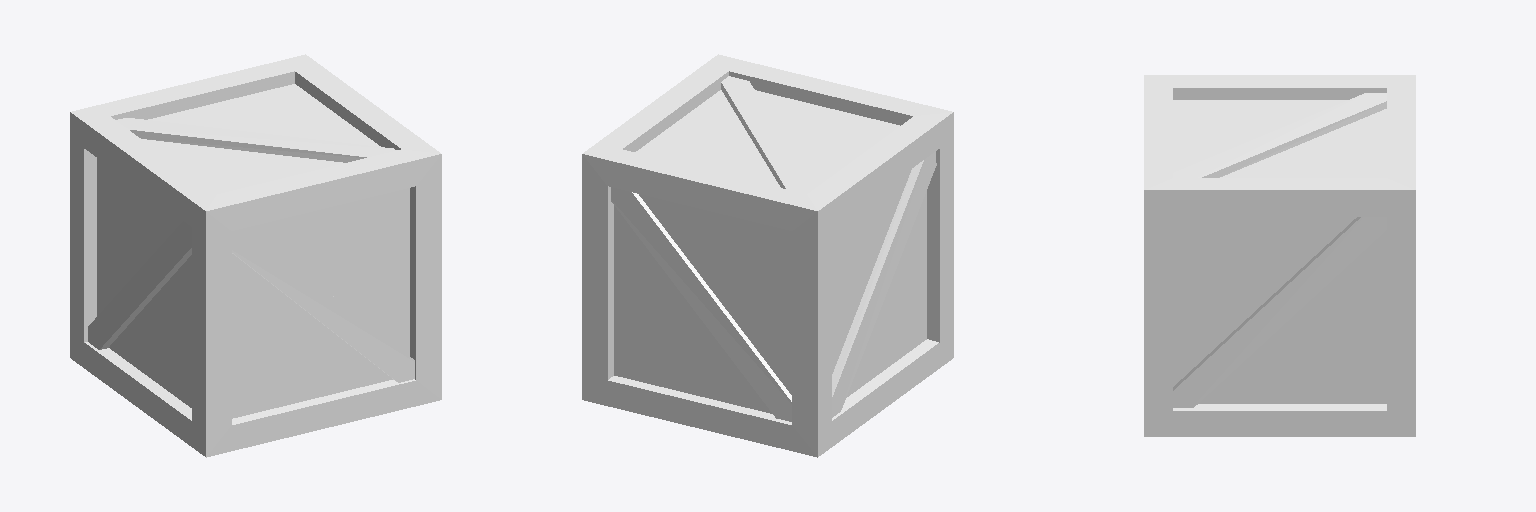
File: deneme.obj
3 views of the same model, side by side, from view 1: azimuth 30°, elevation 25°; view 2: azimuth 150°, elevation 25°; view 3: azimuth 270°, elevation 25° (orthographic).
Parts seen in each view (by area): view 1: wooden_box_obj; view 2: wooden_box_obj; view 3: wooden_box_obj.
Boxes of the visible parts, box(x1,y1,x2,y2) form: wooden_box_obj: box(70, 54, 441, 457); wooden_box_obj: box(582, 54, 953, 457); wooden_box_obj: box(1144, 75, 1415, 436).
Size of the model in its own units: 3 by 2.99 by 3.